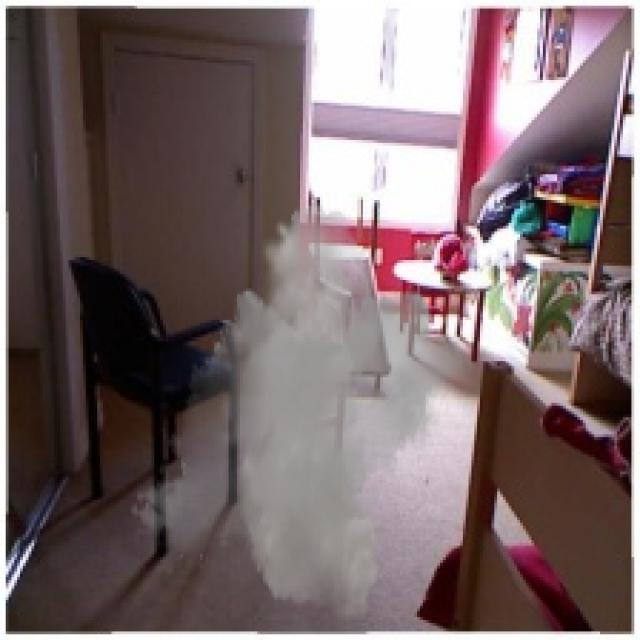smoke: (129, 203, 474, 623)
